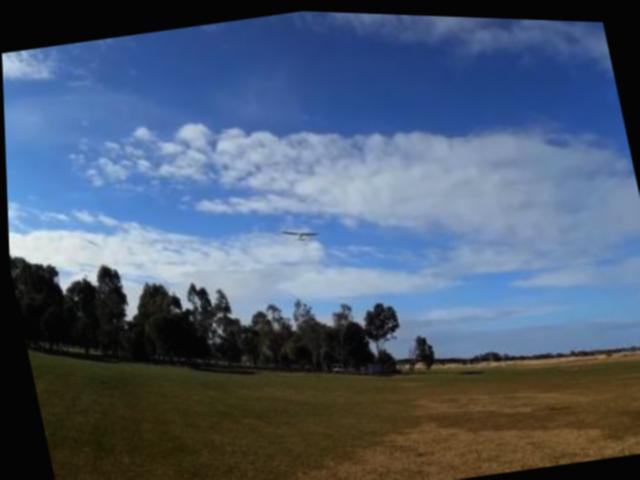uav: (272, 214, 323, 250)
